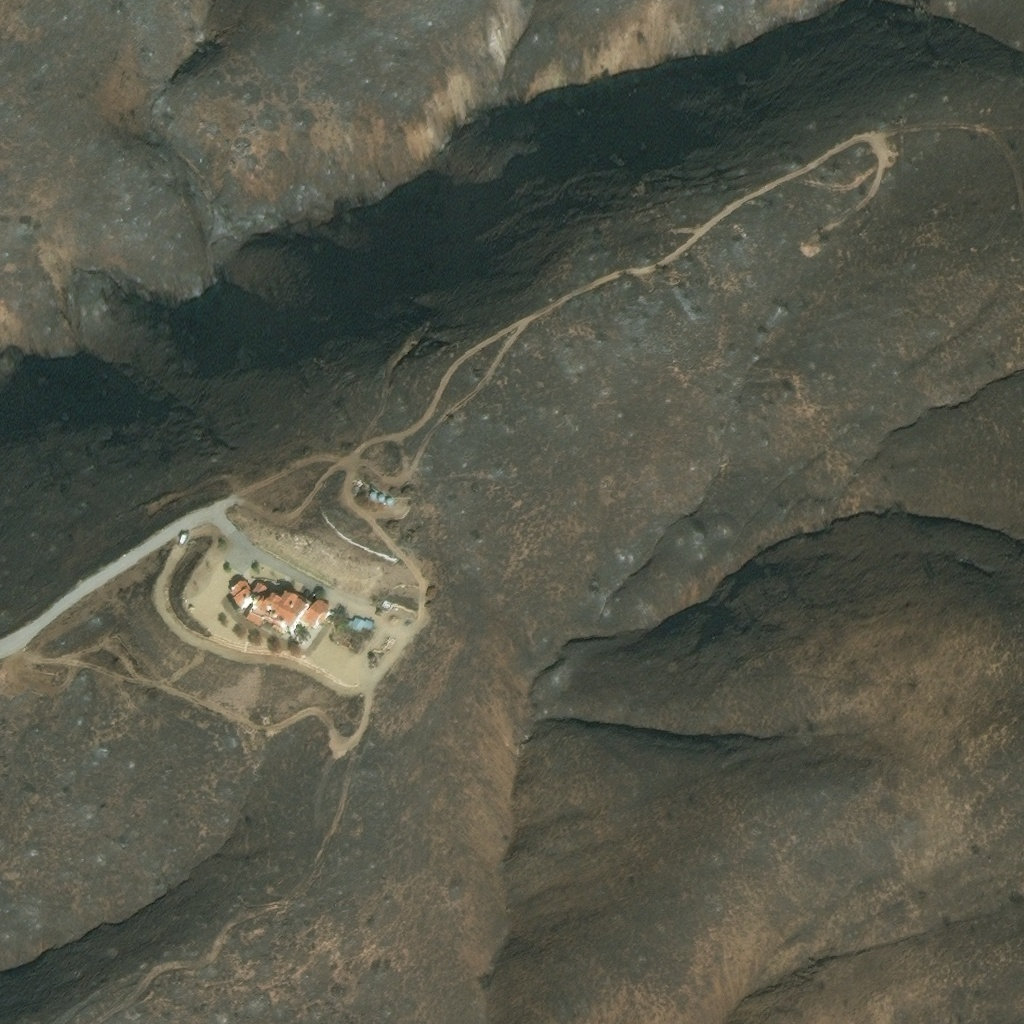0 no-damage: (229, 579, 332, 635), (346, 618, 374, 634), (381, 600, 390, 610), (384, 500, 392, 508), (376, 496, 384, 504), (369, 493, 376, 501)
